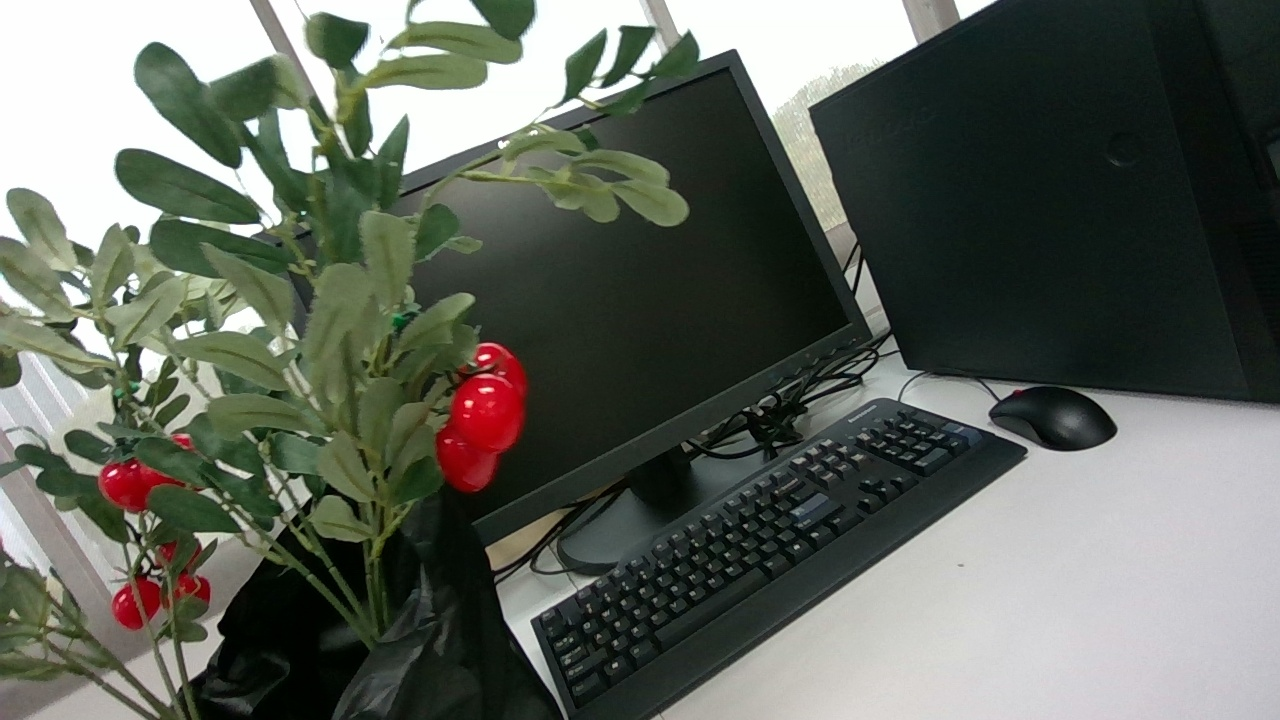peduncle: (126, 521, 138, 534)
strawberry: (450, 373, 524, 452), (436, 423, 499, 492), (459, 342, 528, 400), (96, 459, 149, 512), (110, 584, 143, 630), (139, 464, 183, 494), (134, 576, 159, 618)
